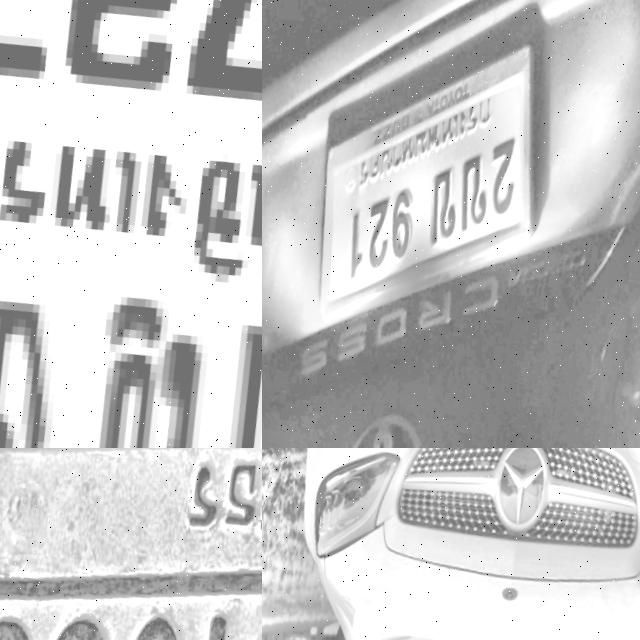license-plate: (0, 0, 262, 448), (291, 11, 568, 357), (0, 448, 262, 640)
